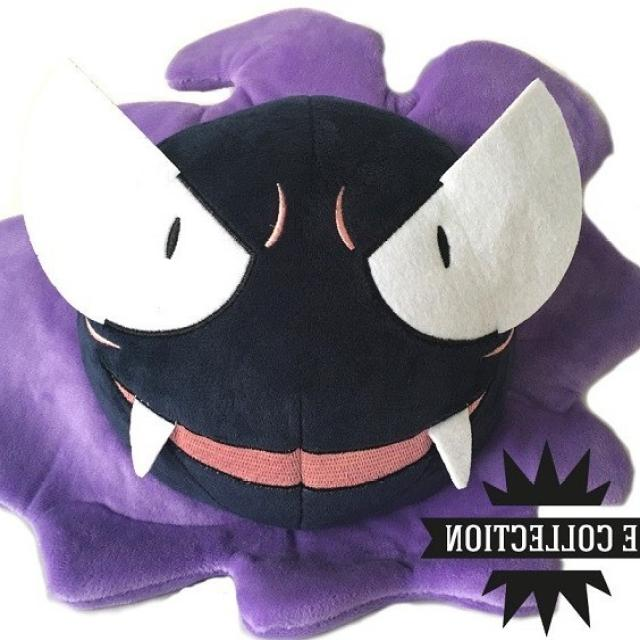Gastly: (16, 27, 617, 611)
